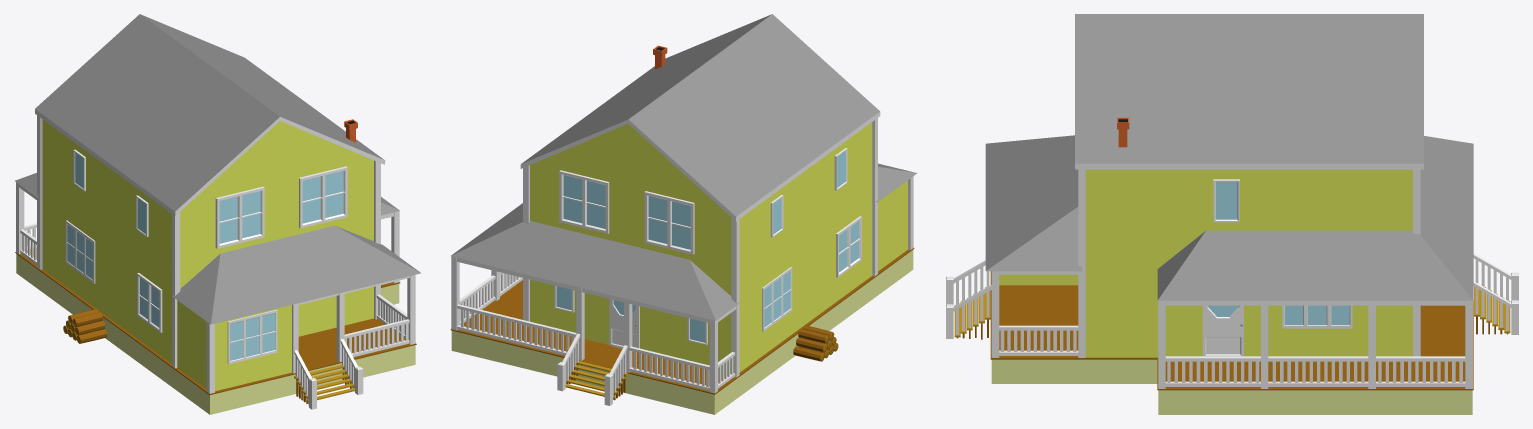
File: house_2.fbx
3 views of the same model, side by side, from view 1: azimuth 30°, elevation 25°; view 2: azimuth 150°, elevation 25°; view 3: azimuth 270°, elevation 25° (orthographic). The views are drawn at different scales.
Visible parts, largest first — view 1: Ground.002; view 2: Ground.002; view 3: Ground.002.
Part boxes in pixels (<box>): Ground.002: <box>15,14,420,414</box>; Ground.002: <box>450,14,917,414</box>; Ground.002: <box>946,14,1518,414</box>.
Bounding box in the file's own units: 80.71 × 67.5 × 113.
